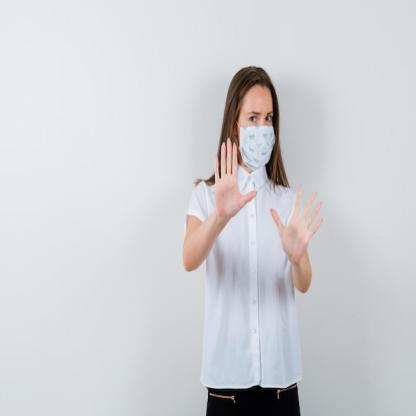stop: (268, 180, 325, 264), (211, 134, 260, 221)
